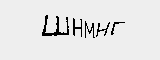Г: (110, 19, 124, 40)
М: (83, 22, 93, 39)
Н: (94, 22, 110, 39), (71, 19, 83, 39)
Ш: (39, 15, 70, 37)
